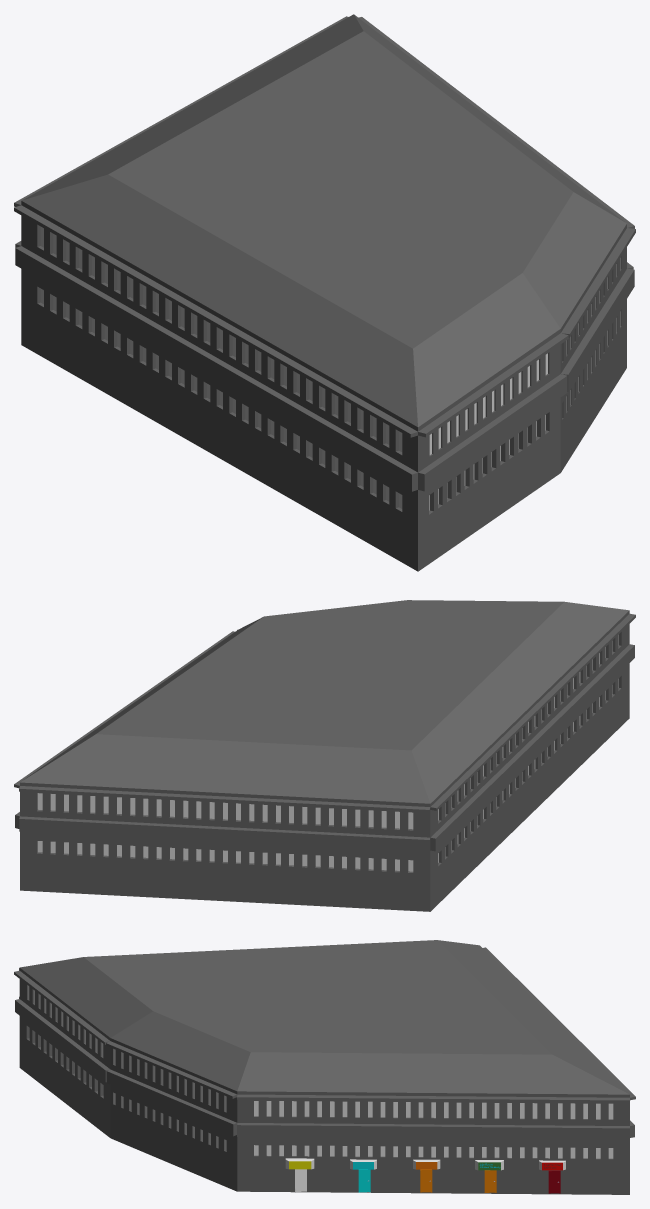
Rendered from KingstonStreetShops.fbx.
3 views of the same model, one above another, from view 1: azimuth 30°, elevation 25°; view 2: azimuth 150°, elevation 25°; view 3: azimuth 270°, elevation 25° (orthographic). The views are drawn at different scales.
Visible parts, largest first — view 1: KingstonStreetShops; view 2: KingstonStreetShops; view 3: KingstonStreetShops.
Part boxes in pixels (bbox=[...]): KingstonStreetShops: bbox=[14, 14, 635, 571]; KingstonStreetShops: bbox=[14, 600, 635, 911]; KingstonStreetShops: bbox=[14, 940, 635, 1194].
Size of the model in its own units: 3970 by 1491 by 6744.
